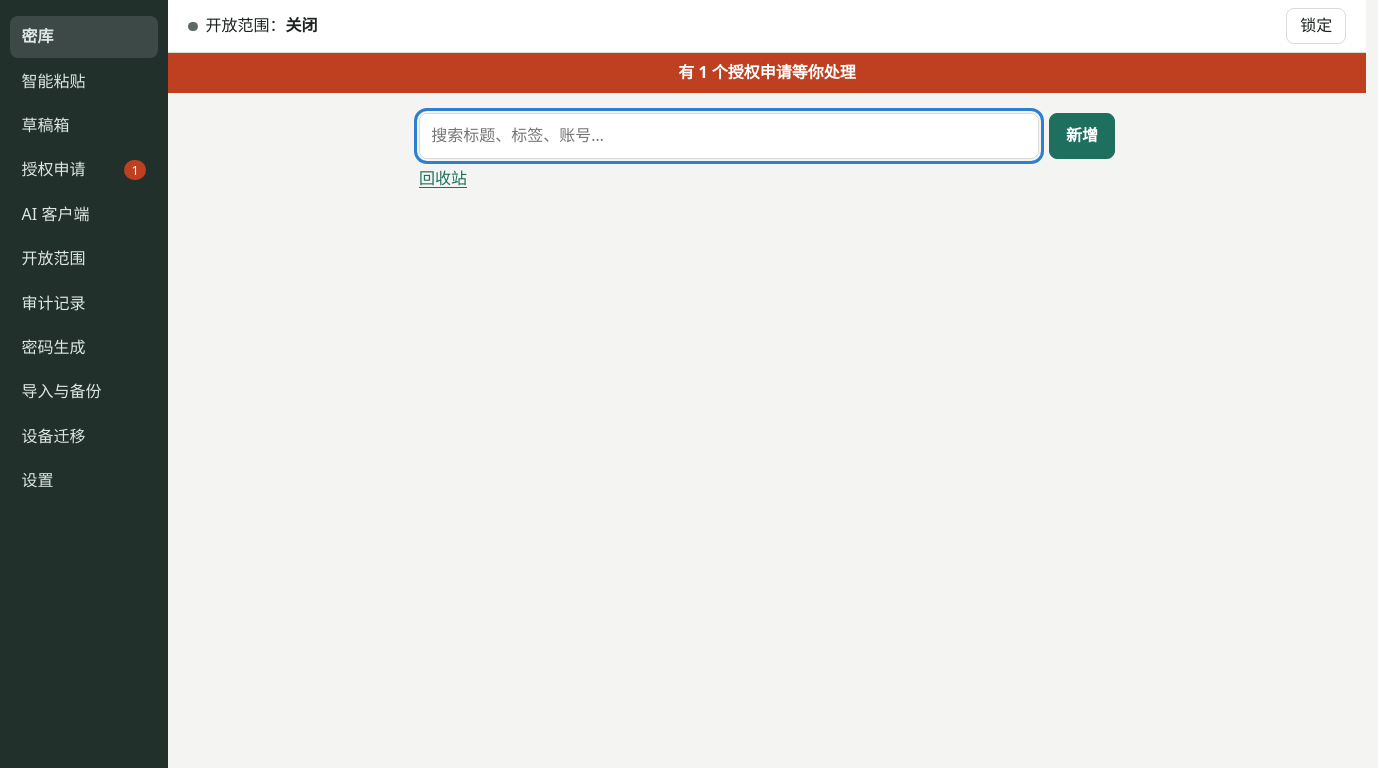
Test case: 公网直连的批准提示 › direct 客户端
The width and height of the screenshot is (1378, 768).
Click the button "有 1 个授权申请等你处理". click: [767, 73]
box: top-left (168, 53), bottom-right (1366, 93)
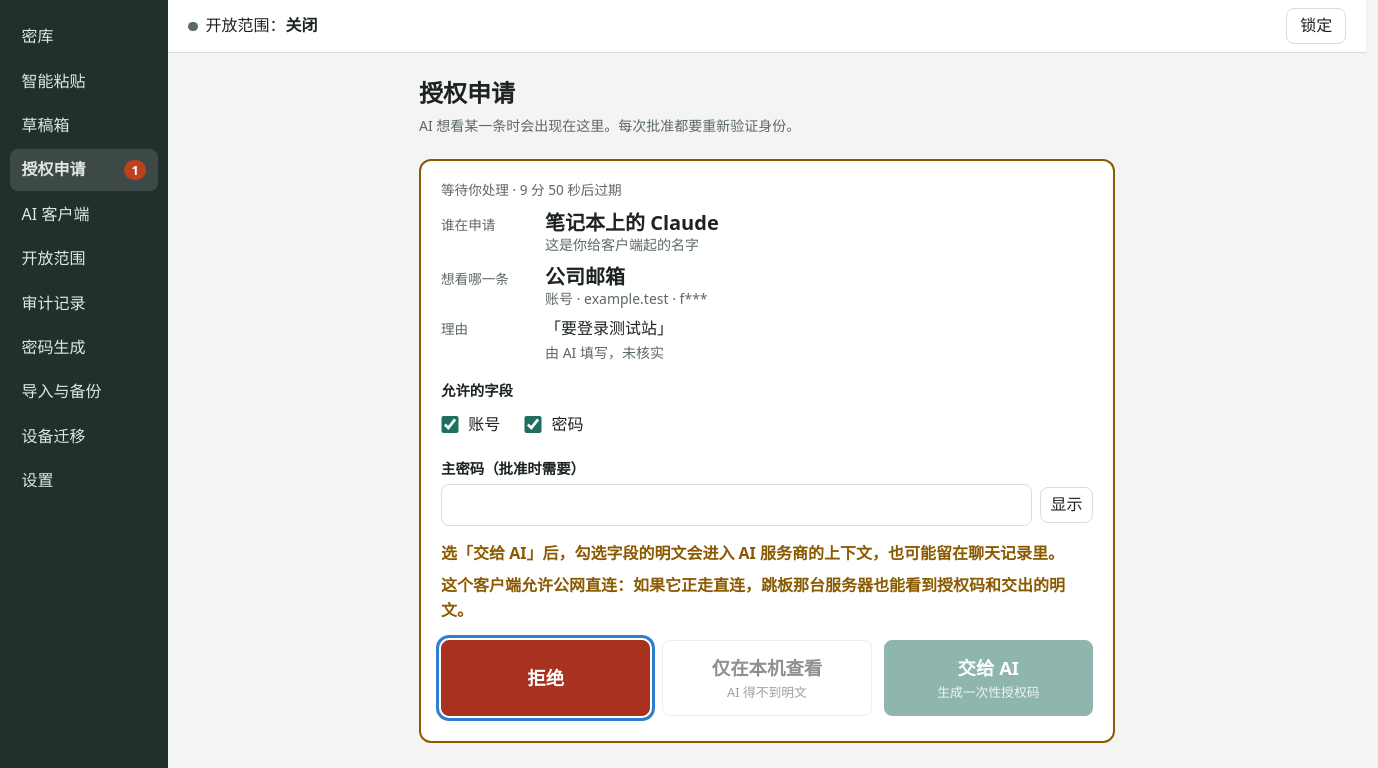
expect the text "选「交给 AI」后，勾选字段的明文会进入 AI 服务商的上下文，也可能留在聊天记录里。" is shown: met, box top-left (441, 540), bottom-right (1093, 566)
